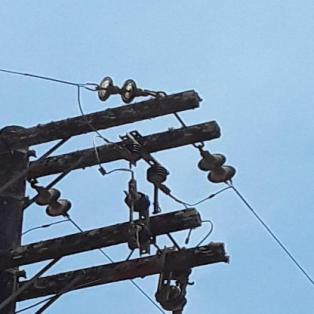Poste: (0, 112, 55, 313)
